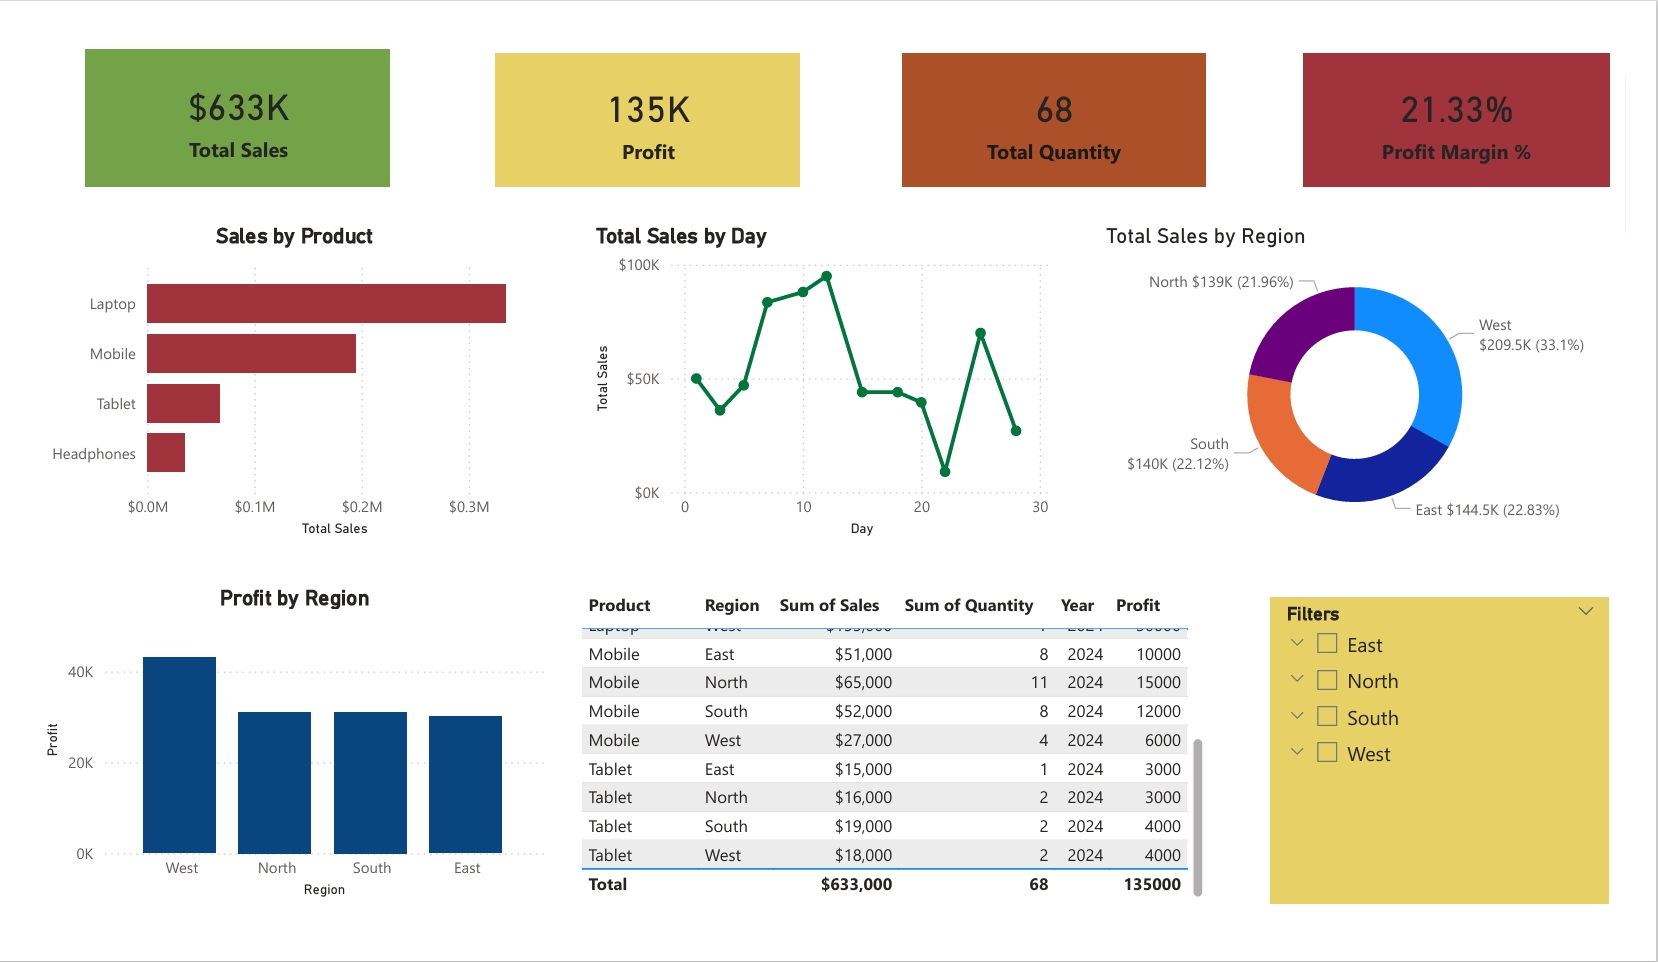

This screenshot's page, from the dashboard's own definition file:
{"tool":"powerbi","page":{"name":"Page 1","canvas":[1280,720],"ordinal":0},"visuals":[{"type":"clusteredBarChart","title":"Sales by Product","fields":{"Category":["Data.Product"],"Y":["Data.Total Sales"]},"box":[11,153.7,407.5,255.2],"z":0},{"type":"lineChart","fields":{"Category":["Data.OrderDate.Variation.Date Hierarchy.Year","Data.OrderDate.Variation.Date Hierarchy.Quarter","Data.OrderDate.Variation.Date Hierarchy.Month","Data.OrderDate.Variation.Date Hierarchy.Day"],"Y":["Data.Total Sales"]},"box":[451.5,153.7,374.6,255.2],"z":1000},{"type":"donutChart","fields":{"Y":["Data.Total Sales"],"Category":["Data.Region"]},"box":[859,153.7,407.5,255.2],"z":2000},{"type":"columnChart","fields":{"Category":["Data.Region"],"Y":["Data.Profit"]},"box":[11,443.2,407.5,255.2],"z":3000},{"type":"tableEx","fields":{"Values":["Data.Product","Data.Region","Sum(Data.Sales)","Sum(Data.Quantity)","Data.OrderDate.Variation.Date Hierarchy.Year","Data.Profit"]},"box":[439.1,443.2,507.7,255.2],"z":4000},{"type":"slicer","fields":{"Values":["Data.Region","Data.Product","Data.OrderDate"]},"box":[996.2,452.8,270.3,245.6],"z":5000},{"type":"card","fields":{"Values":["Data.Total Sales"]},"box":[48,15.1,244.3,109.8],"z":6000},{"type":"card","fields":{"Values":["Data.Profit"]},"box":[376,17.8,244.3,107],"z":7000},{"type":"card","fields":{"Values":["Data.Total Quantity"]},"box":[701.2,17.8,242.9,107],"z":8000},{"type":"card","fields":{"Values":["Data.Profit Margin %"]},"box":[1022.3,17.8,244.3,107],"z":9000}]}

Visuals, with their boxes on the page's 1280x720 design canvas (x1, y1, x2, y2). These are canvas units, not pixel positions in the 1658x962 screenshot, which may show the page scaled, cropped or inside an application window:
"Sales by Product" clusteredBarChart: bbox(11, 154, 418, 409)
lineChart - Data.OrderDate.Variation.Date Hierarchy.Year x Data.OrderDate.Variation.Date Hierarchy.Quarter: bbox(452, 154, 826, 409)
donutChart - Data.Total Sales x Data.Region: bbox(859, 154, 1266, 409)
columnChart - Data.Region x Data.Profit: bbox(11, 443, 418, 698)
tableEx - Data.Product x Data.Region: bbox(439, 443, 947, 698)
slicer - Data.Region x Data.Product: bbox(996, 453, 1266, 698)
card - Data.Total Sales: bbox(48, 15, 292, 125)
card - Data.Profit: bbox(376, 18, 620, 125)
card - Data.Total Quantity: bbox(701, 18, 944, 125)
card - Data.Profit Margin %: bbox(1022, 18, 1267, 125)
